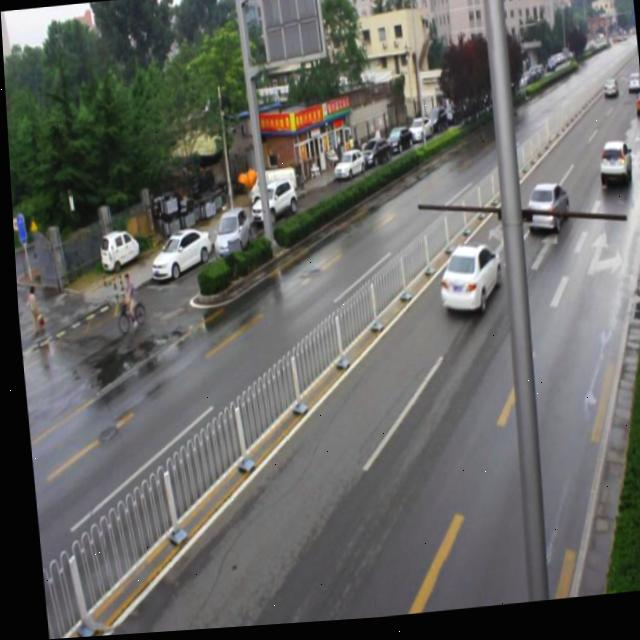car: (430, 245, 497, 324), (518, 185, 565, 240), (592, 148, 628, 194)
